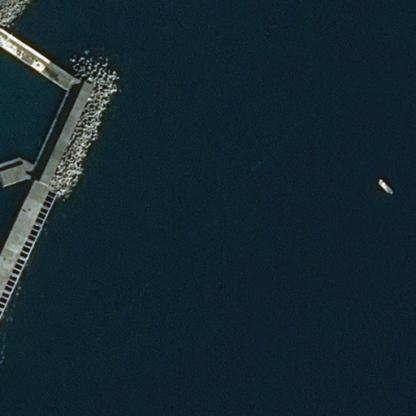ship: (371, 172, 399, 200)
